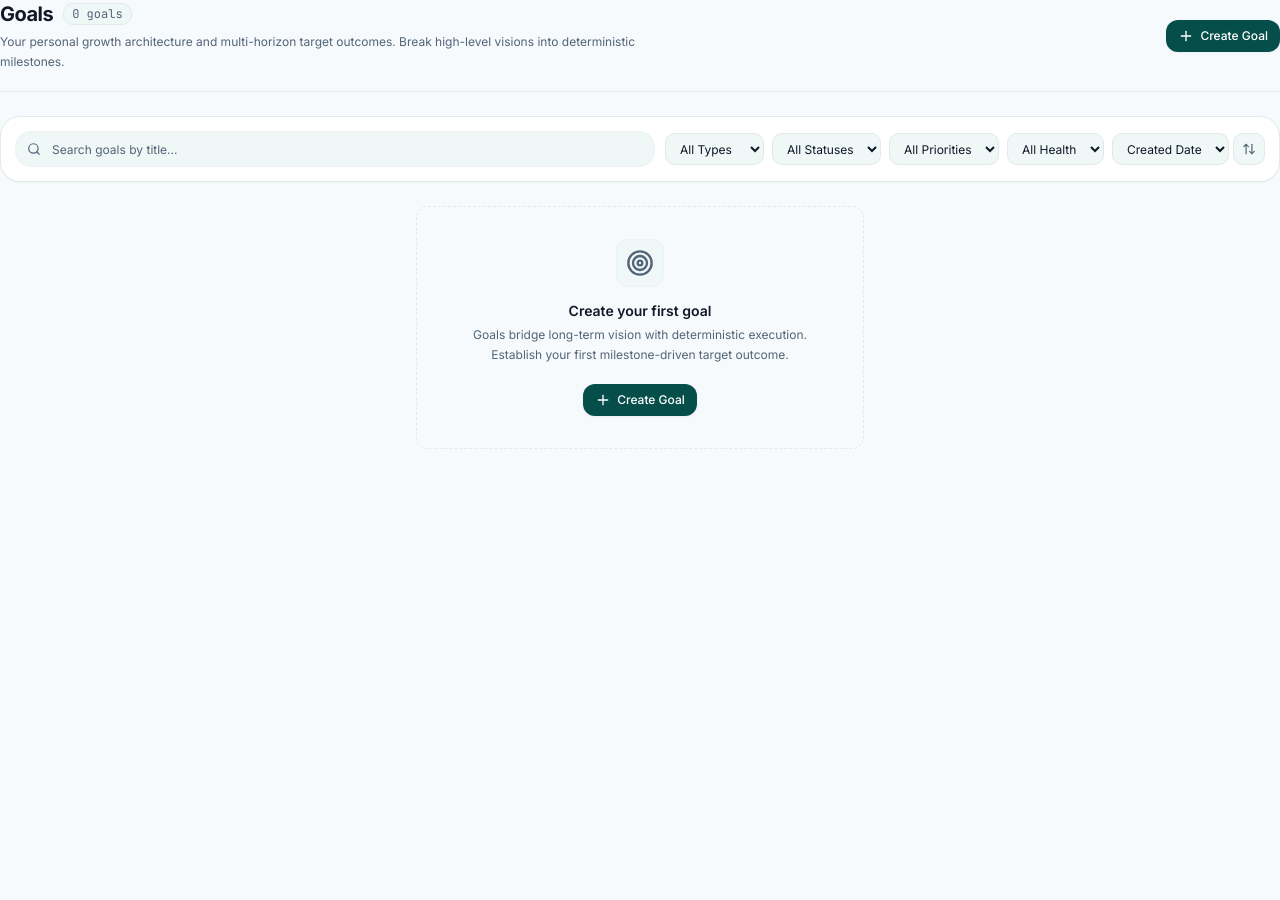
Scenario: GoalsPage Component › opens Create Goal modal when clicking create goal button
Click the 1st button "Create Goal" at (1223, 36), box [1166,20,1279,52]
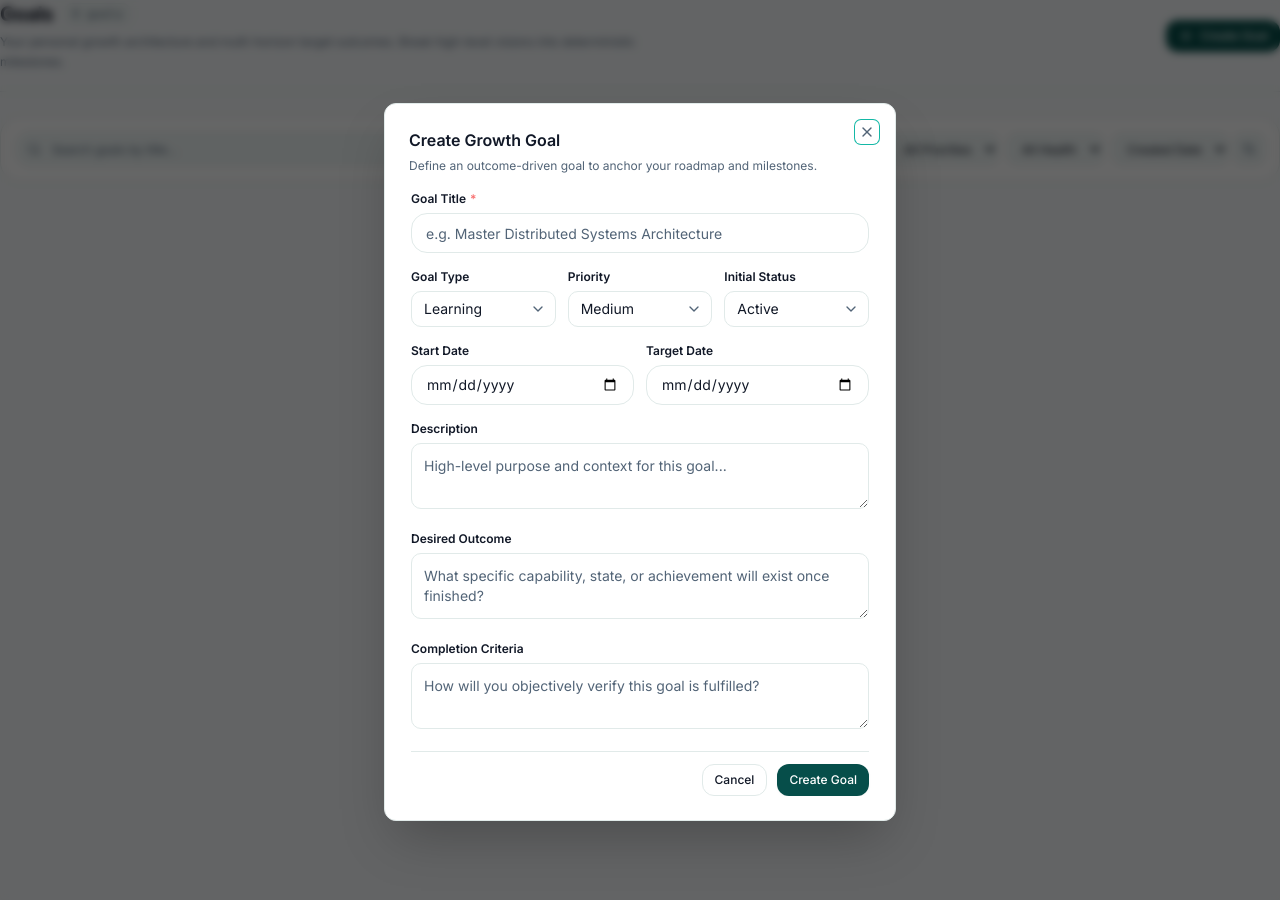
Expected: the heading "Create Growth Goal" is shown, [409,130,560,150]
Expected: the field labelled "Goal Title *" is shown, [411,213,869,253]
